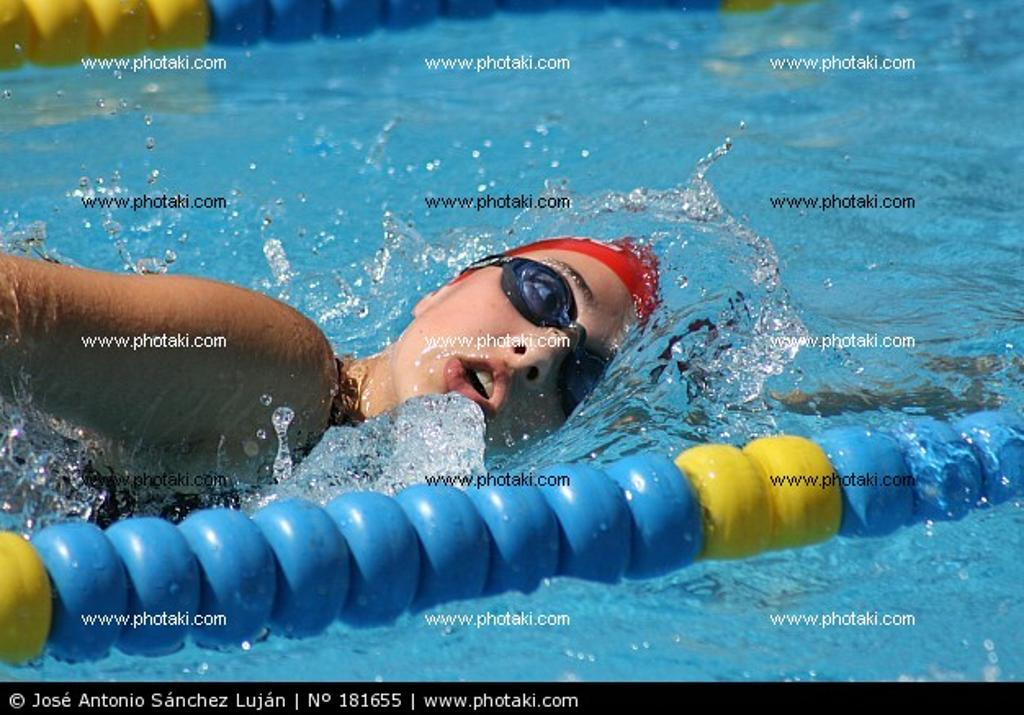face: (406, 260, 624, 446)
